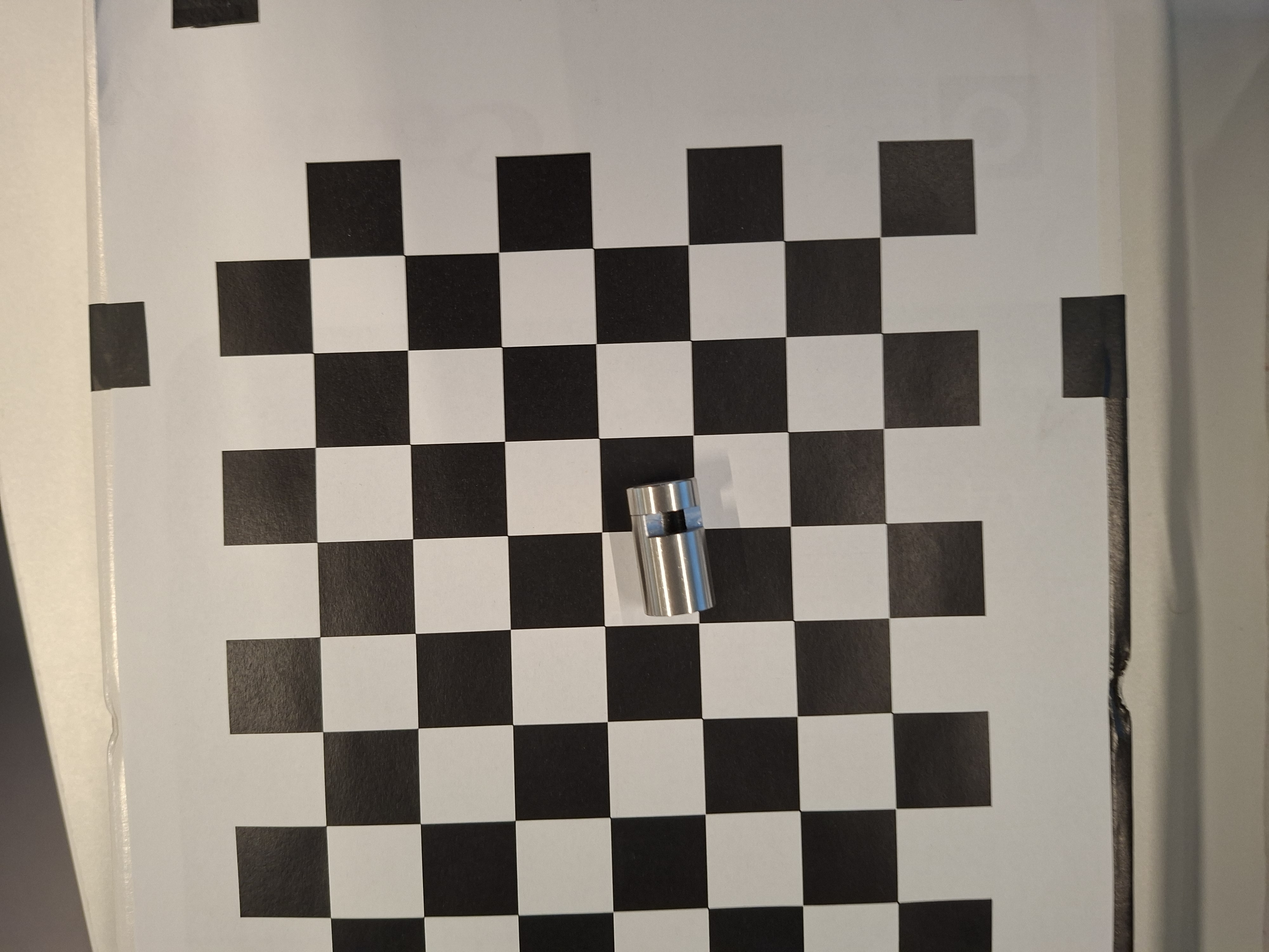barrel_nut: (617, 472, 724, 625)
